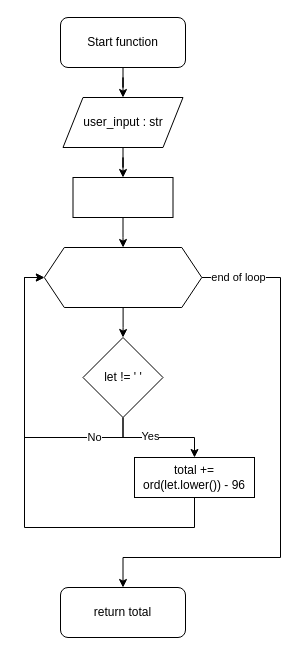
This 306x655 diagram has some shape labels left out. Each missing label, with the centre of its shape:
loop for let in user_input: the point at 122,277
total = 0: the point at 122,197
